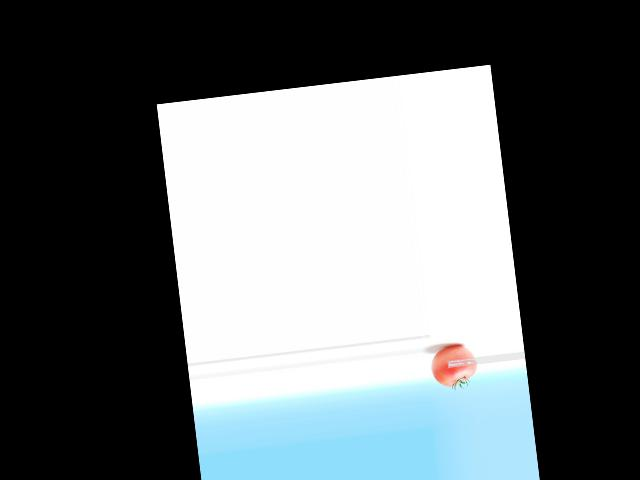tomato: (429, 344, 479, 388)
